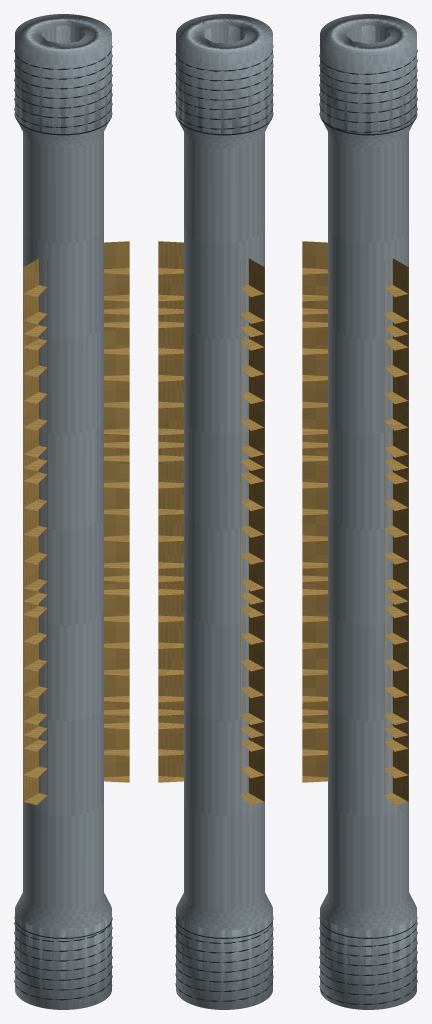
The model's file is straight-stabilizer.glb.
3 views of the same model, side by side, from view 1: azimuth 90°, elevation 25°; view 2: azimuth 150°, elevation 25°; view 3: azimuth 270°, elevation 25° (orthographic).
Visible parts, largest first — view 1: tool-housing (×3), stabilizer-blades (×3), uphole-connection (×3), downhole-connection (×3); view 2: tool-housing (×3), stabilizer-blades (×3), uphole-connection (×3), downhole-connection (×3); view 3: tool-housing (×3), stabilizer-blades (×3), uphole-connection (×3), downhole-connection (×3).
Part boxes in pixels (box(x1,y1,x2,y2)): tool-housing (×3): box(15, 14, 111, 1009); stabilizer-blades (×3): box(23, 241, 129, 804); uphole-connection (×3): box(14, 40, 112, 135); downhole-connection (×3): box(14, 915, 112, 1009); tool-housing (×3): box(176, 14, 272, 1009); stabilizer-blades (×3): box(158, 241, 264, 804); uphole-connection (×3): box(175, 38, 273, 135); downhole-connection (×3): box(175, 914, 273, 1009); tool-housing (×3): box(320, 14, 416, 1009); stabilizer-blades (×3): box(302, 241, 408, 804); uphole-connection (×3): box(319, 40, 417, 135); downhole-connection (×3): box(319, 915, 417, 1009).
Bounding box in the file's own units: 0.1399 × 1.2 × 0.1316.
Materials: 3 (3 with a texture image).
